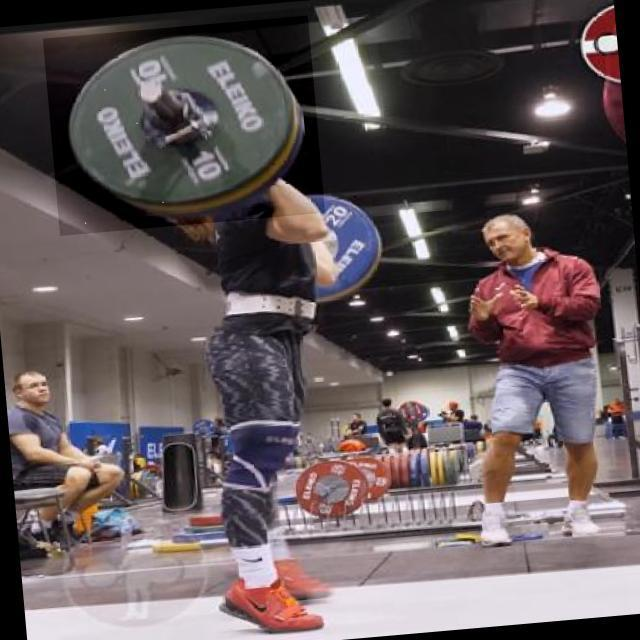barbell: (44, 16, 326, 236)
